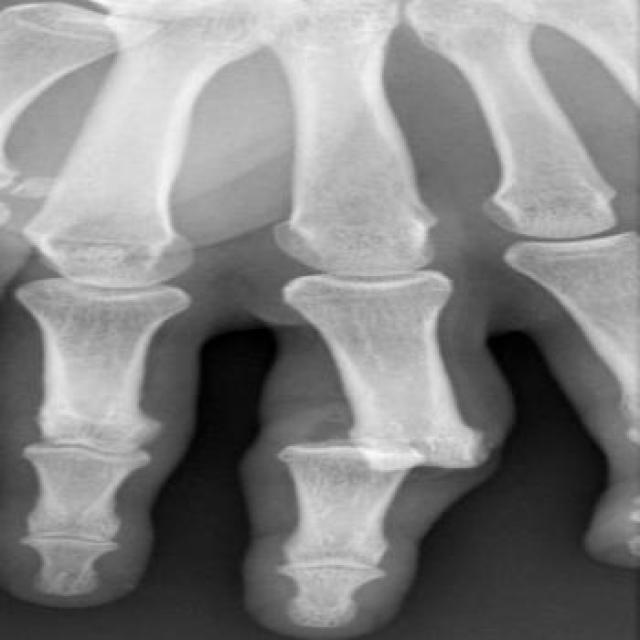Fracture: (267, 413, 494, 481)
